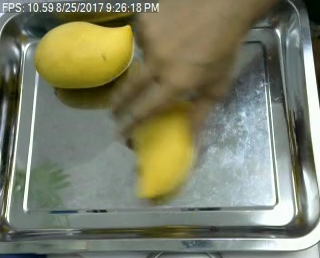Mango: (34, 19, 136, 89), (125, 111, 198, 193)
